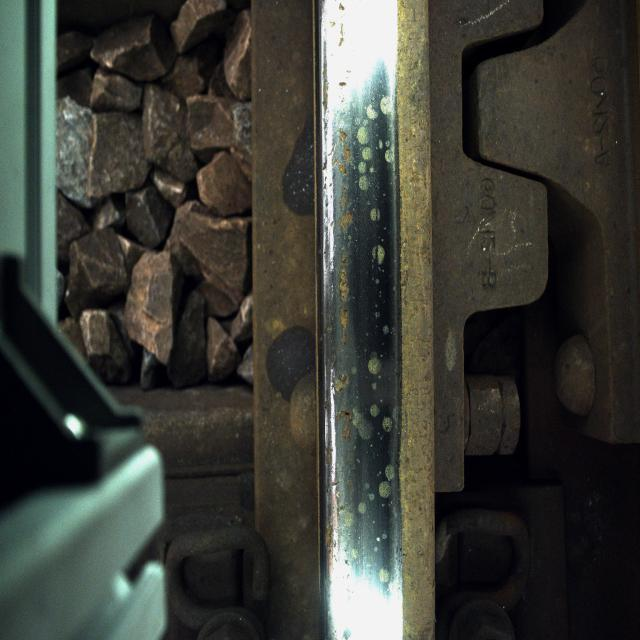scar: (321, 0, 400, 581)
